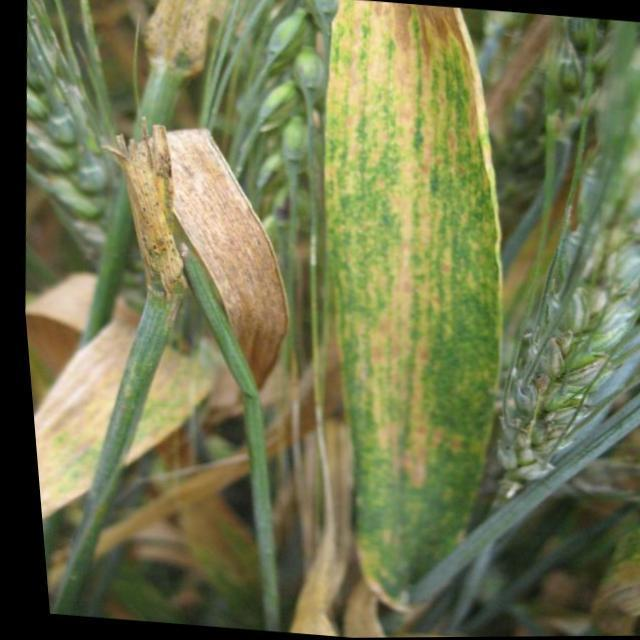Septoria: (317, 0, 498, 611), (116, 127, 282, 390)
